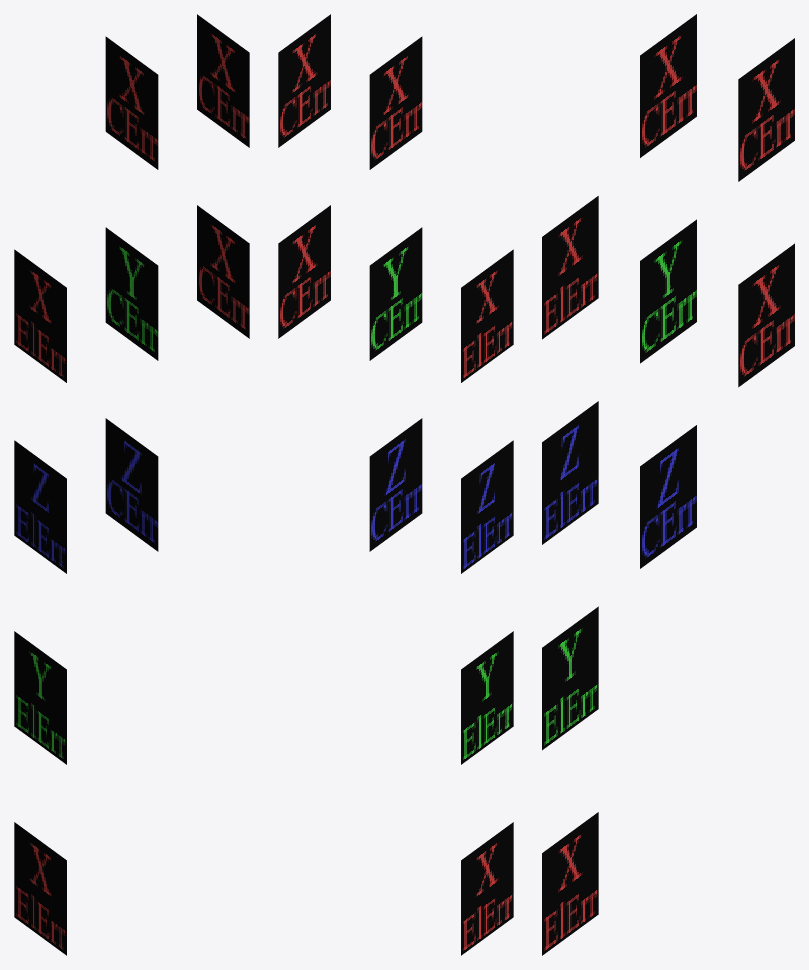
The model's file is noise_gates_2.gltf.
3 renders of one model, left to right at view 1: azimuth 30°, elevation 25°; view 2: azimuth 150°, elevation 25°; view 3: azimuth 330°, elevation 25°, orthographic. The views are drawn at different scales.
Size of the model in its own units: 2 by 9 by 1.
1 material, 1 textured.
